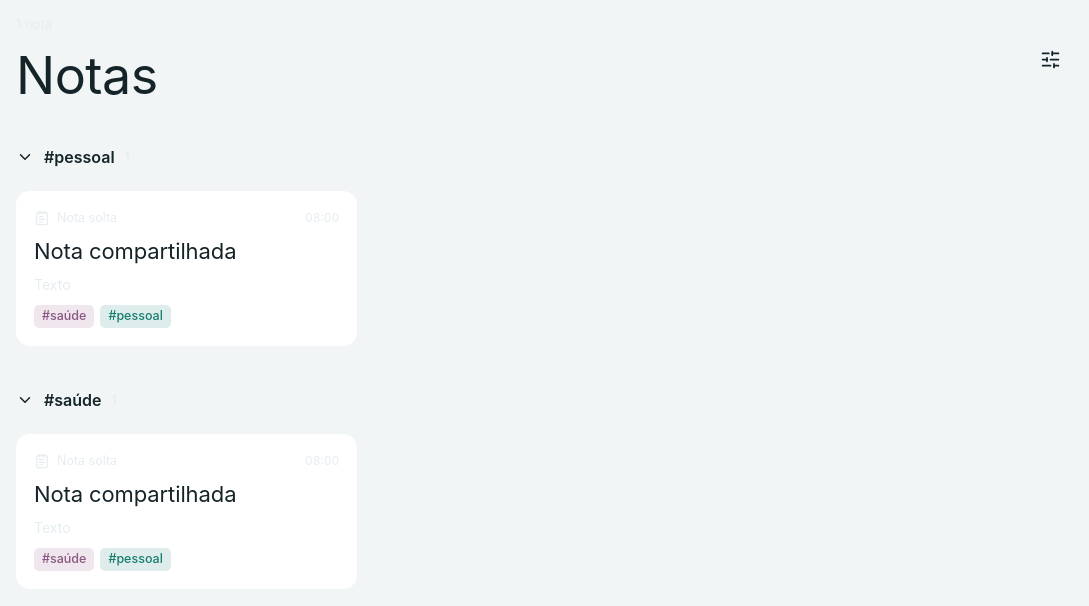
Test: expande e recolhe cada tag independentemente e repete notas com várias tags
Expected: the number of links "Nota solta 08:00 Nota compartilhada Texto #saúde #pessoal" is 2, [16,191,357,346]; [16,434,357,589]
Click the button "#saúde 1". click: coordinates (73, 400)
box: [16,378,1072,422]
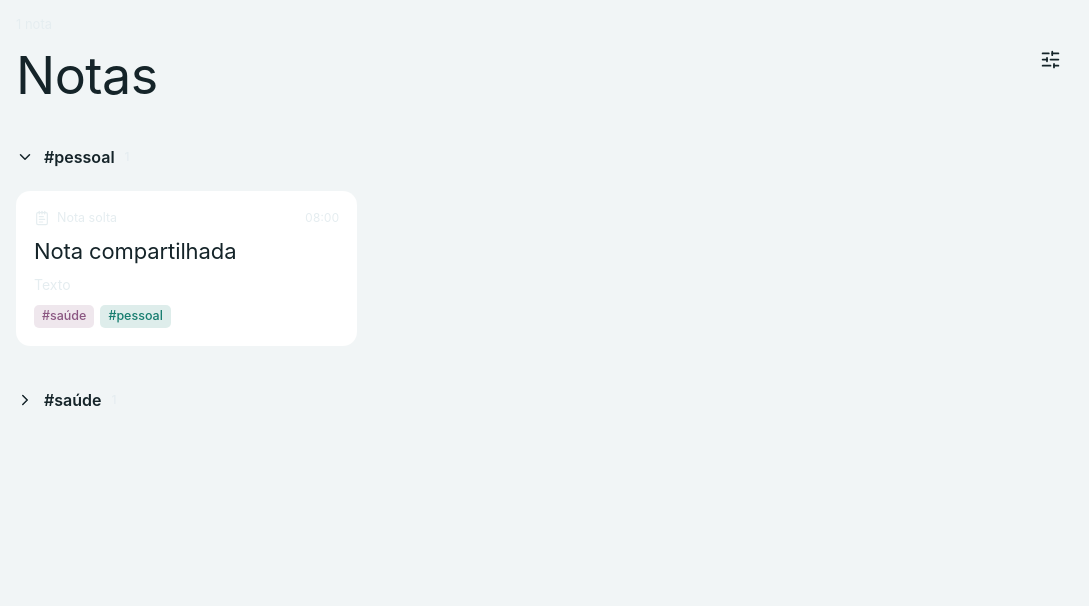
Expected: the button "#saúde 1" is collapsed
Expected: the number of links "Nota solta 08:00 Nota compartilhada Texto #saúde #pessoal" is 1, [16,191,357,346]
Click the button "#saúde 1". click: coordinates (73, 400)
box: [16,378,1072,422]
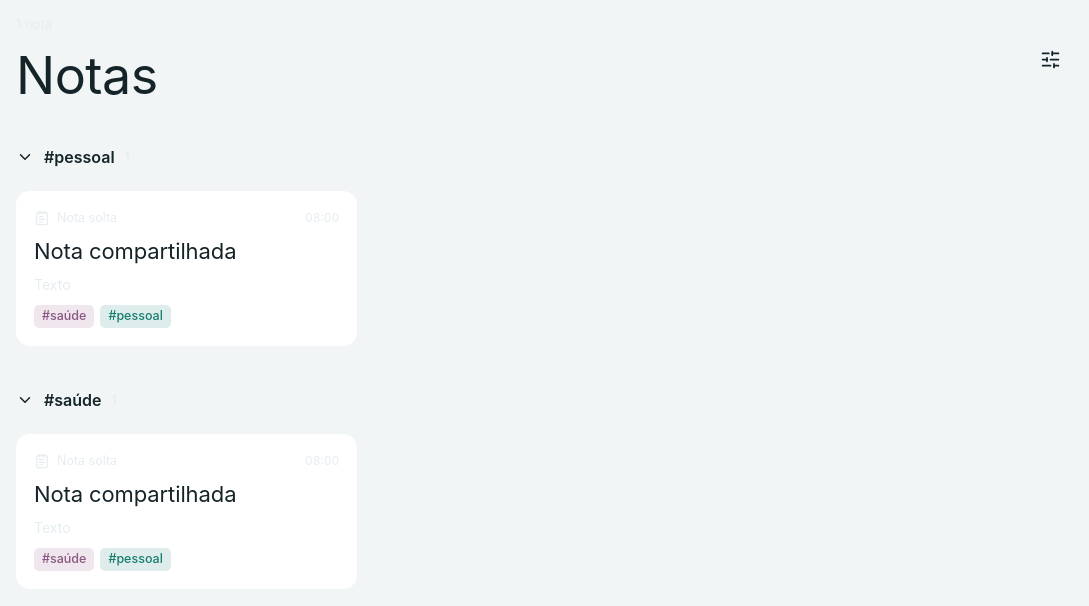
Expected: the number of links "Nota solta 08:00 Nota compartilhada Texto #saúde #pessoal" is 2, [16,191,357,346]; [16,434,357,589]
